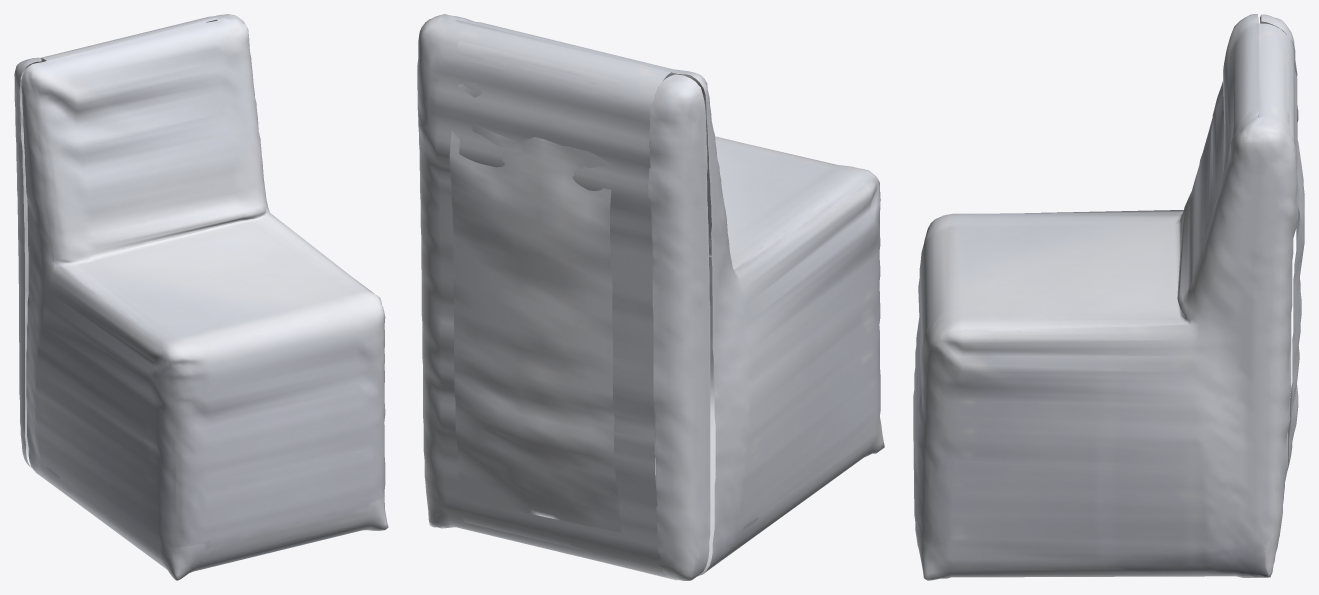
Rendered from Chair_Block_Leather_32InchesTall_0222192049_texture.glb.
The picture shows the model from 3 angles, left to right: view 1: azimuth 30°, elevation 25°; view 2: azimuth 150°, elevation 25°; view 3: azimuth 270°, elevation 25°; orthographic projection. The views are drawn at different scales.
Parts seen in each view (by area): view 1: Mesh_0; view 2: Mesh_0; view 3: Mesh_0.
Boxes of the visible parts, x1,y1,x2,y2 form: Mesh_0: (14,14,388,580); Mesh_0: (417,14,884,580); Mesh_0: (913,14,1304,580).
Size of the model in its own units: 0.509 by 0.8128 by 0.6309.
Materials: 1 (1 with a texture image).
